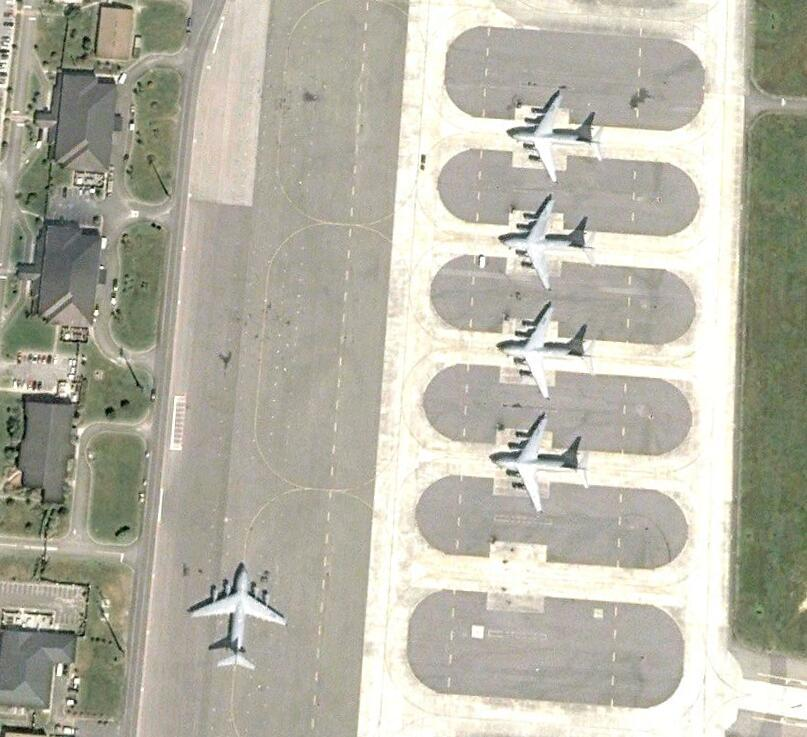A3: (189, 562, 287, 669), (491, 415, 592, 515), (498, 304, 594, 401), (499, 198, 596, 292), (508, 92, 606, 182)
